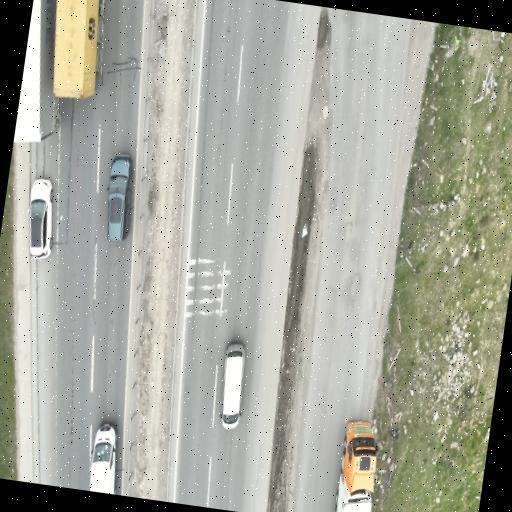car: (107, 154, 133, 241), (221, 342, 245, 428), (90, 424, 118, 494), (29, 178, 53, 258)
truck: (14, 0, 104, 141), (54, 0, 104, 97), (336, 421, 377, 511)
